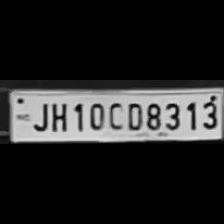0: (85, 99, 105, 131)
1: (68, 98, 86, 132), (181, 99, 199, 131)
3: (162, 99, 182, 131), (200, 96, 218, 130)
8: (142, 100, 162, 130)
C: (106, 99, 122, 131)
D: (124, 100, 142, 130)
H: (47, 98, 69, 132)
J: (29, 98, 48, 132)
